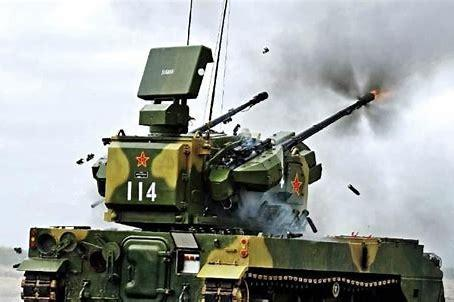MIL_SPG: (17, 45, 443, 301)
